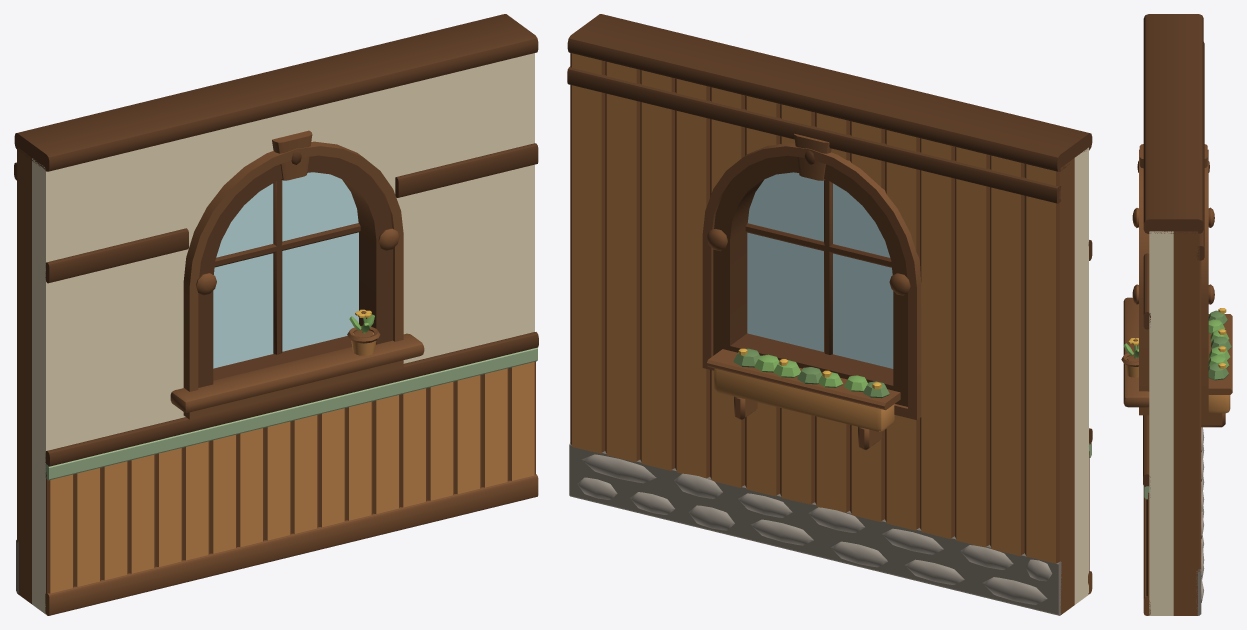
The model's file is ZoneKitWallWindow.fbx.
3 views of the same model, side by side, from view 1: azimuth 30°, elevation 25°; view 2: azimuth 150°, elevation 25°; view 3: azimuth 270°, elevation 25° (orthographic). The views are drawn at different scales.
Visible parts, largest first — view 1: ZoneKitWallWindow; view 2: ZoneKitWallWindow; view 3: ZoneKitWallWindow.
Part boxes in pixels (x1,y1,x2,y2): ZoneKitWallWindow: [14, 14, 538, 615]; ZoneKitWallWindow: [567, 14, 1092, 615]; ZoneKitWallWindow: [1121, 14, 1232, 615].
Bounding box in the file's own units: 3 × 2.7 × 0.688.
